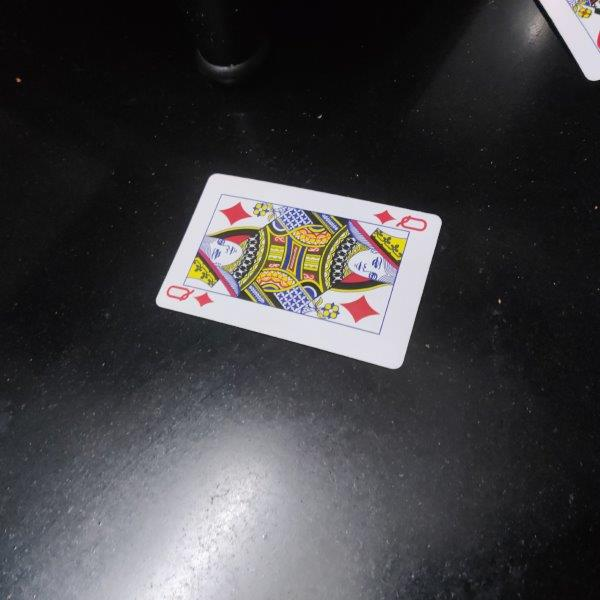Queen of Diamonds: (155, 173, 442, 371)
